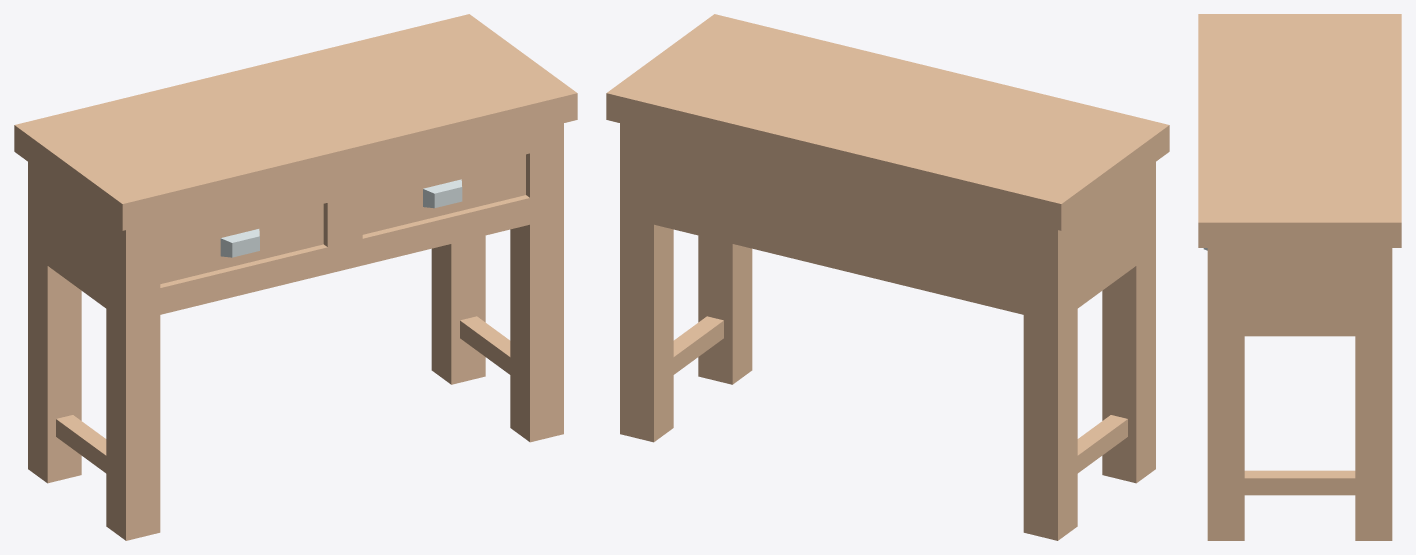
File: scrivania.glb
The picture shows the model from 3 angles, left to right: view 1: azimuth 30°, elevation 25°; view 2: azimuth 150°, elevation 25°; view 3: azimuth 270°, elevation 25°; orthographic projection. The views are drawn at different scales.
Parts seen in each view (by area): view 1: scrivania; view 2: scrivania; view 3: scrivania.
Part boxes in pixels (x1,y1,x2,y2): scrivania: (14,14,577,540); scrivania: (606,14,1169,540); scrivania: (1198,14,1401,540).
Bounding box in the file's own units: 0.5345 × 0.3844 × 0.22.
